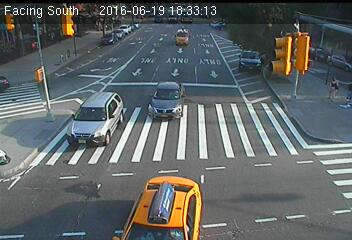neg: (278, 150, 296, 175), (210, 151, 221, 166)
pos: (321, 72, 345, 104)
